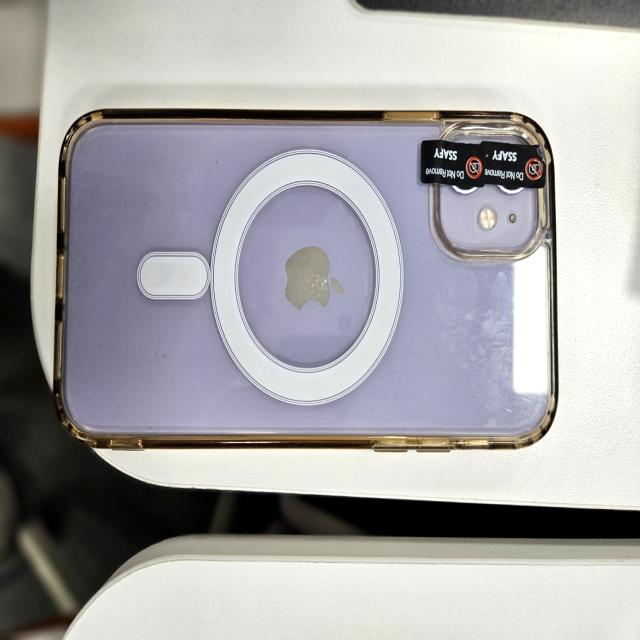phone: (56, 105, 560, 447)
sticker: (478, 141, 546, 191), (420, 132, 484, 185)
